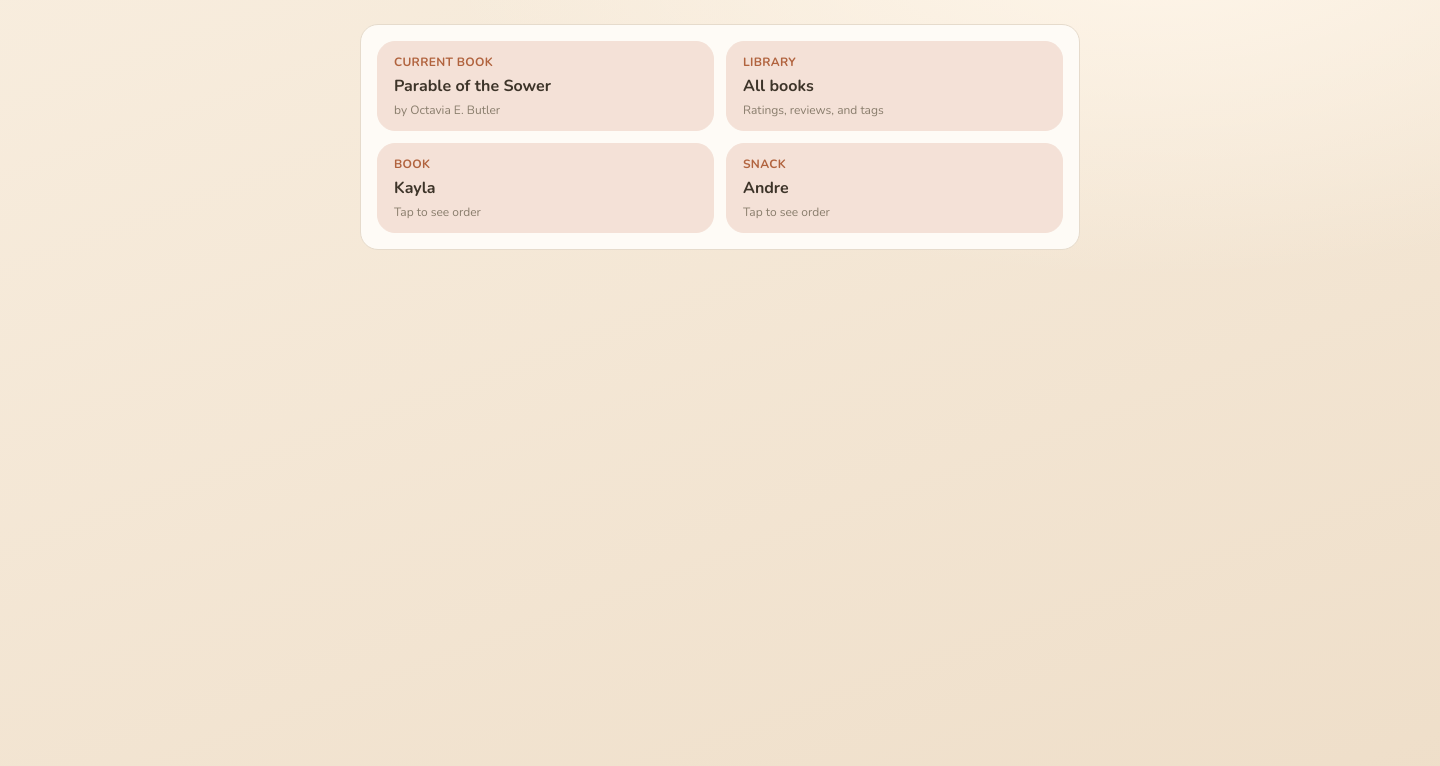
Test case: BookClub cards and library › shows an error when an open meeting blocks book completion
Click the button "Current book Parable of the Sower by Octavia E. Butler". click: (546, 86)
box: [378, 42, 713, 130]
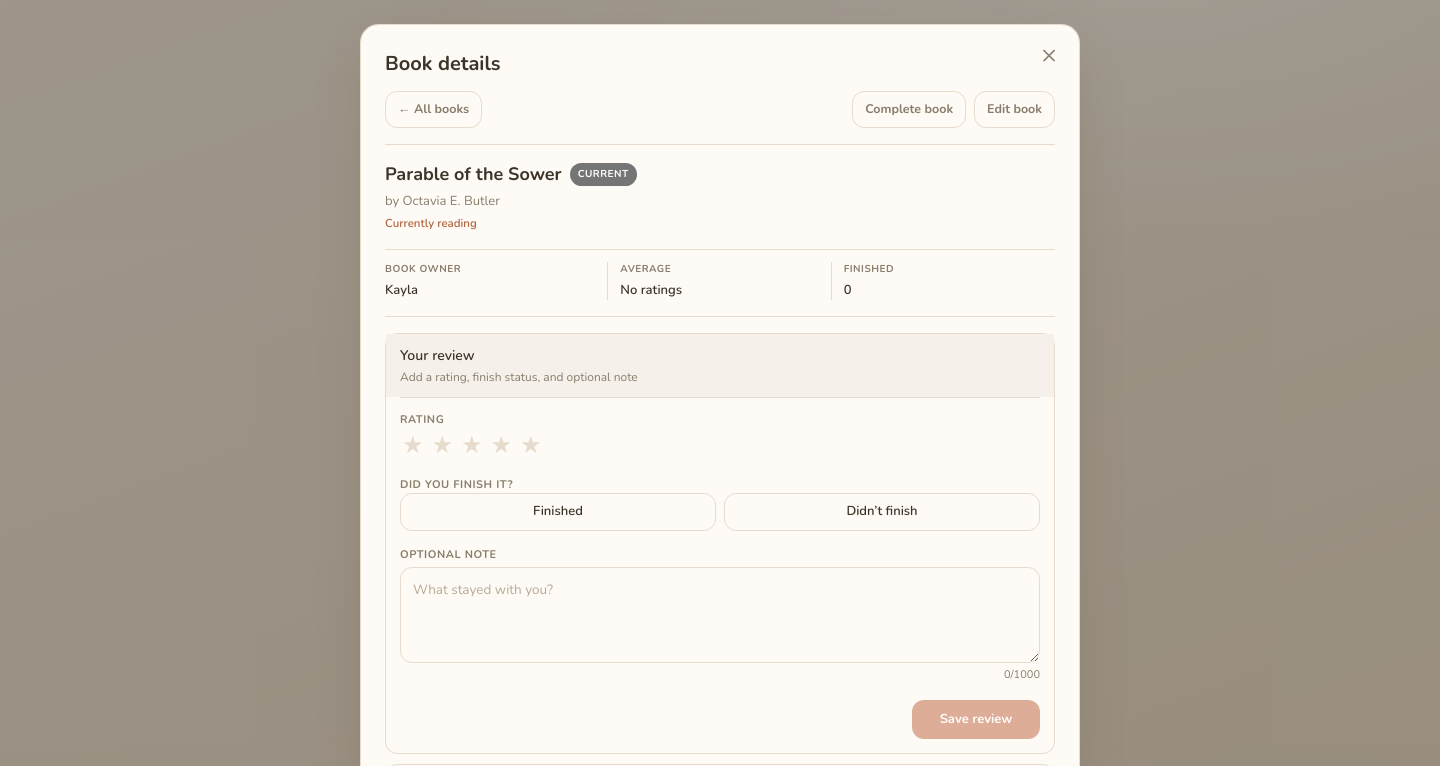
Click the button "Complete book". click: (909, 109)
box: [852, 91, 966, 128]
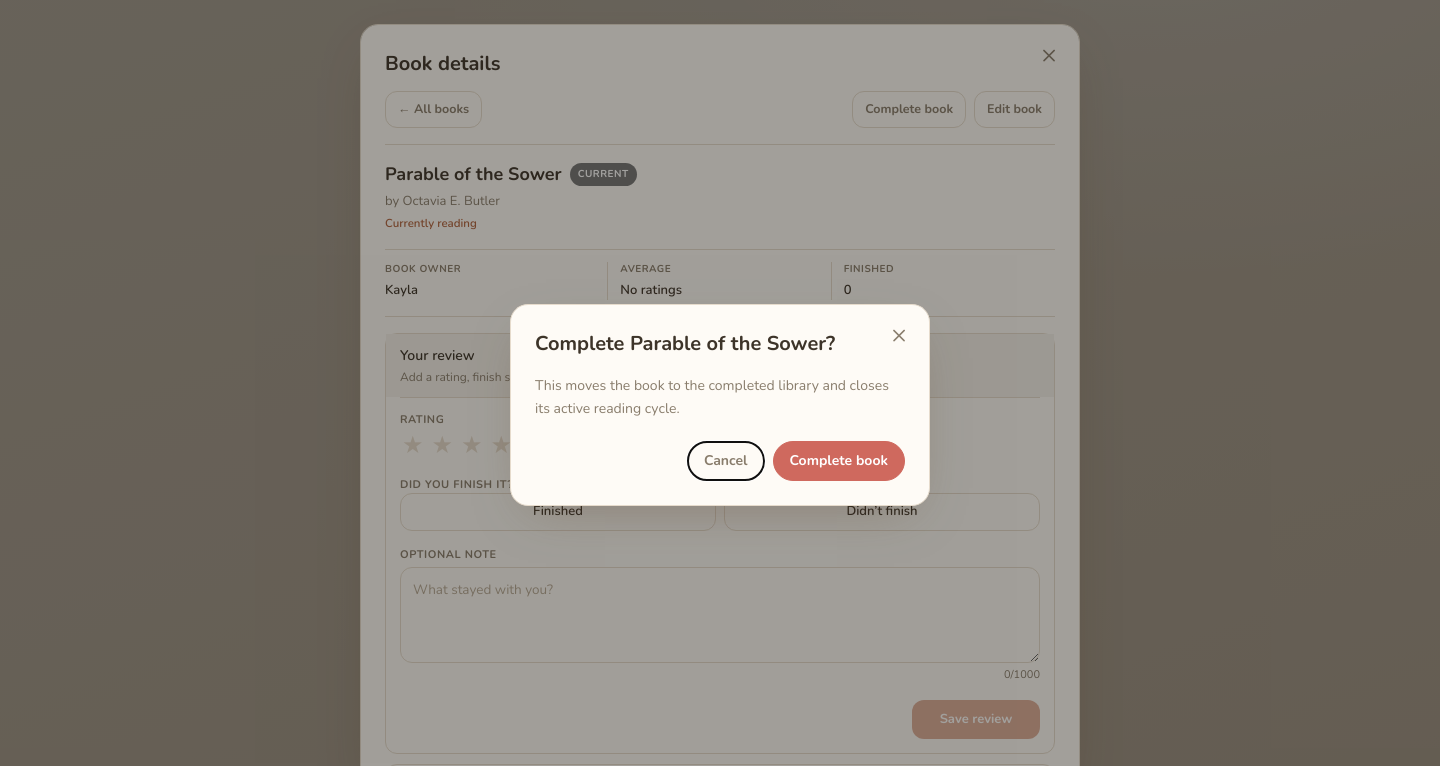
Click the button "Complete book". click: (839, 461)
box: [772, 441, 905, 481]
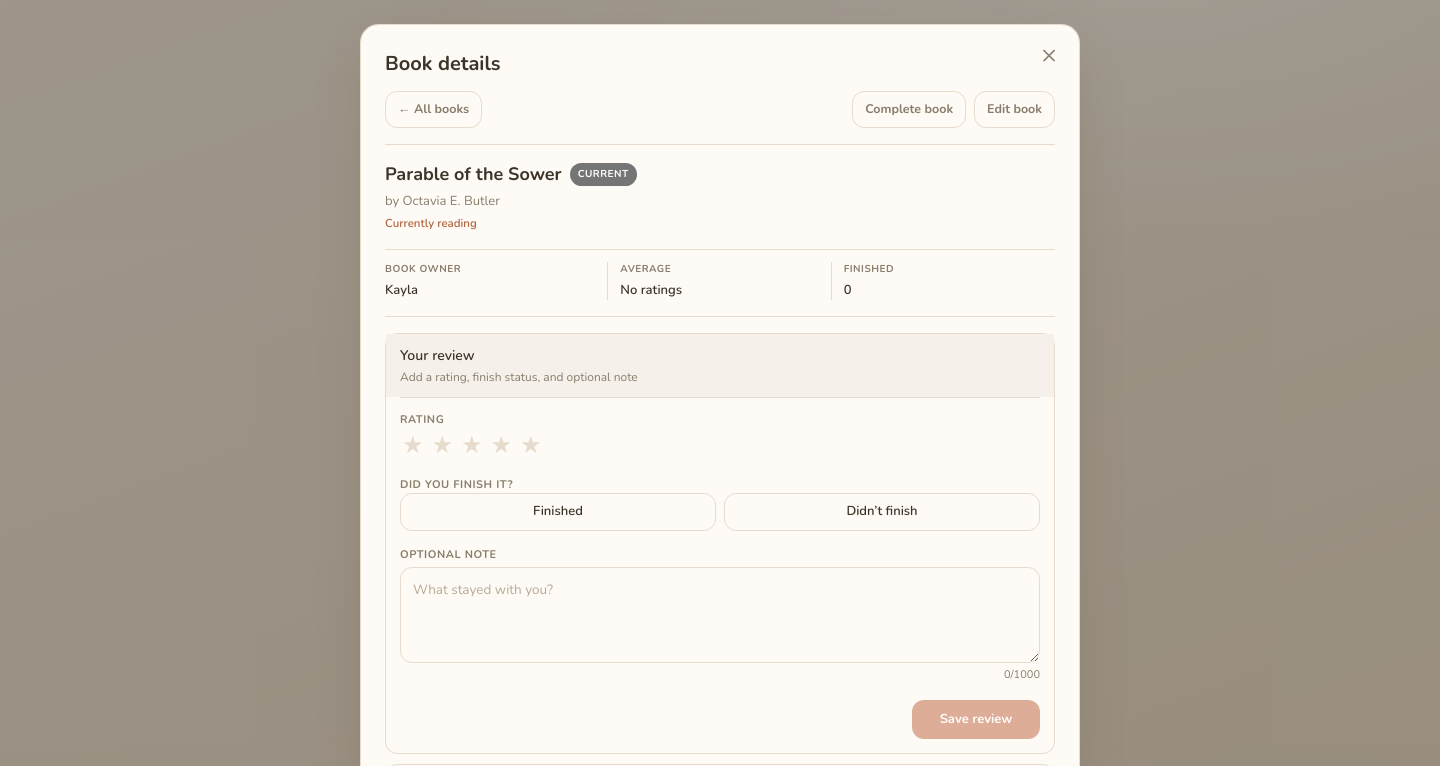
Now the text "Complete the open meeting before completing the current book." is shown, box [377, 41, 1063, 77]
